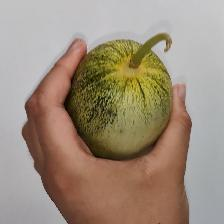gua: (92, 47, 163, 145)
